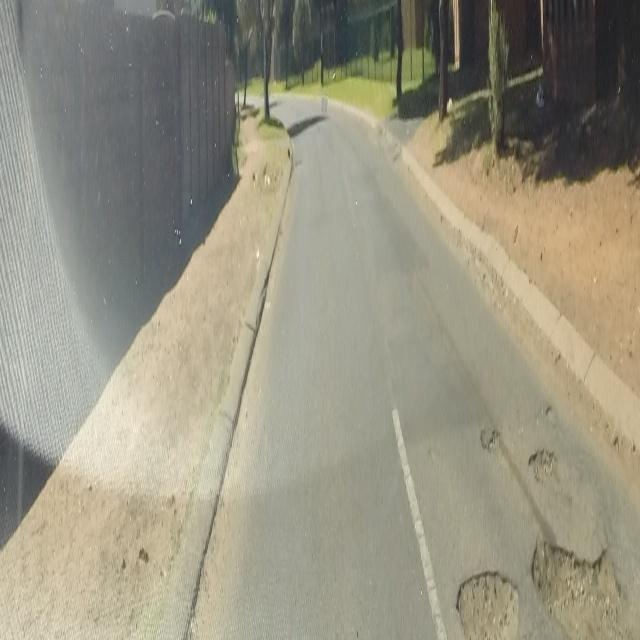pothole: (529, 538, 610, 616), (451, 567, 519, 640), (526, 446, 556, 486), (480, 414, 502, 456)
